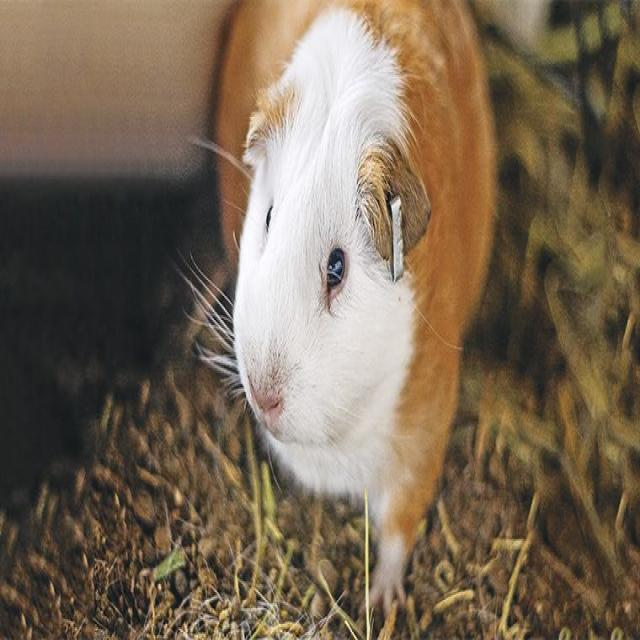guinea pig: (184, 3, 508, 616)
